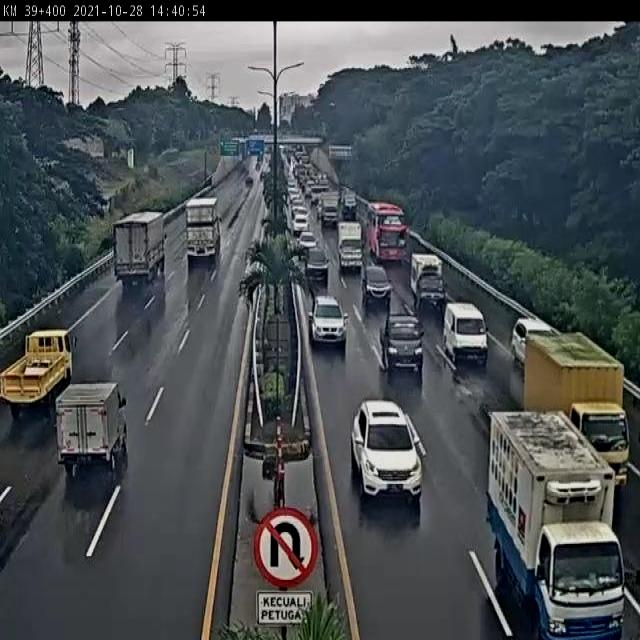Bus: (365, 201, 408, 264)
Car: (351, 400, 423, 506), (379, 308, 425, 378), (308, 294, 348, 349), (360, 262, 392, 311), (305, 246, 330, 284), (298, 230, 318, 258), (292, 211, 309, 236)
Truck: (484, 409, 640, 640), (523, 330, 632, 500), (53, 384, 131, 475), (0, 328, 73, 420), (112, 212, 166, 292), (186, 196, 222, 261), (408, 252, 444, 311), (336, 221, 363, 271), (318, 192, 341, 226)
Van: (443, 300, 488, 364)
